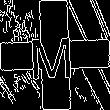M_N: (31, 29, 79, 81)
